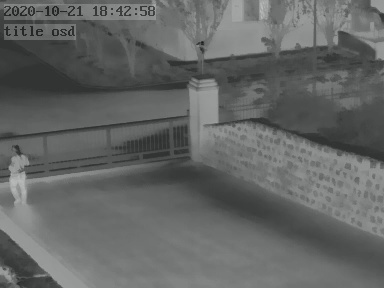person: (7, 146, 29, 203)
